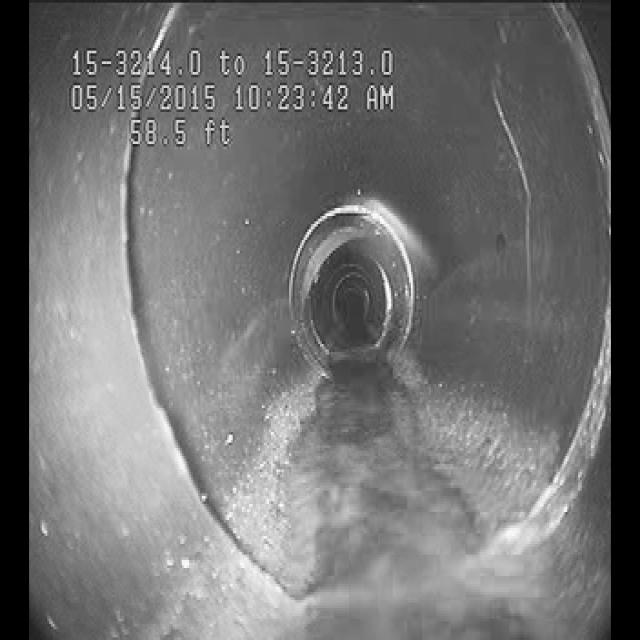Crack: (466, 62, 554, 329)
